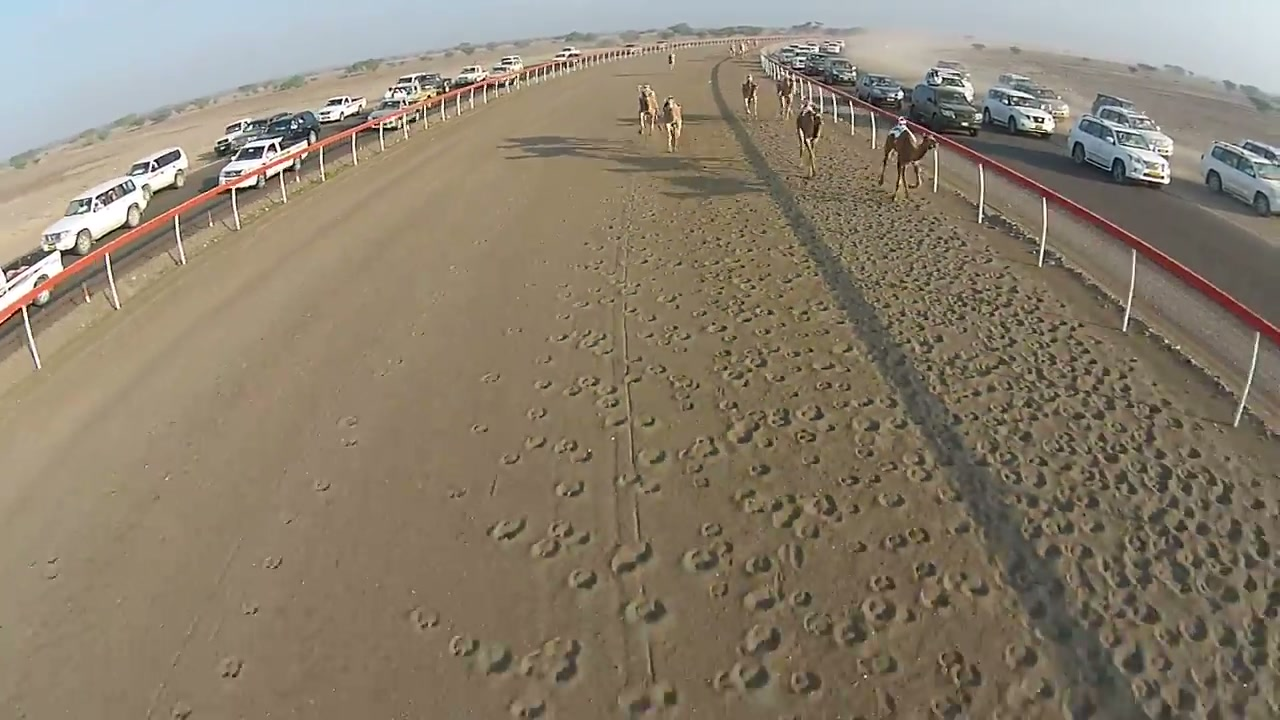animal_foot_print: (460, 121, 1274, 717), (792, 158, 1276, 714), (627, 227, 960, 707), (517, 637, 581, 685), (619, 681, 678, 717)
